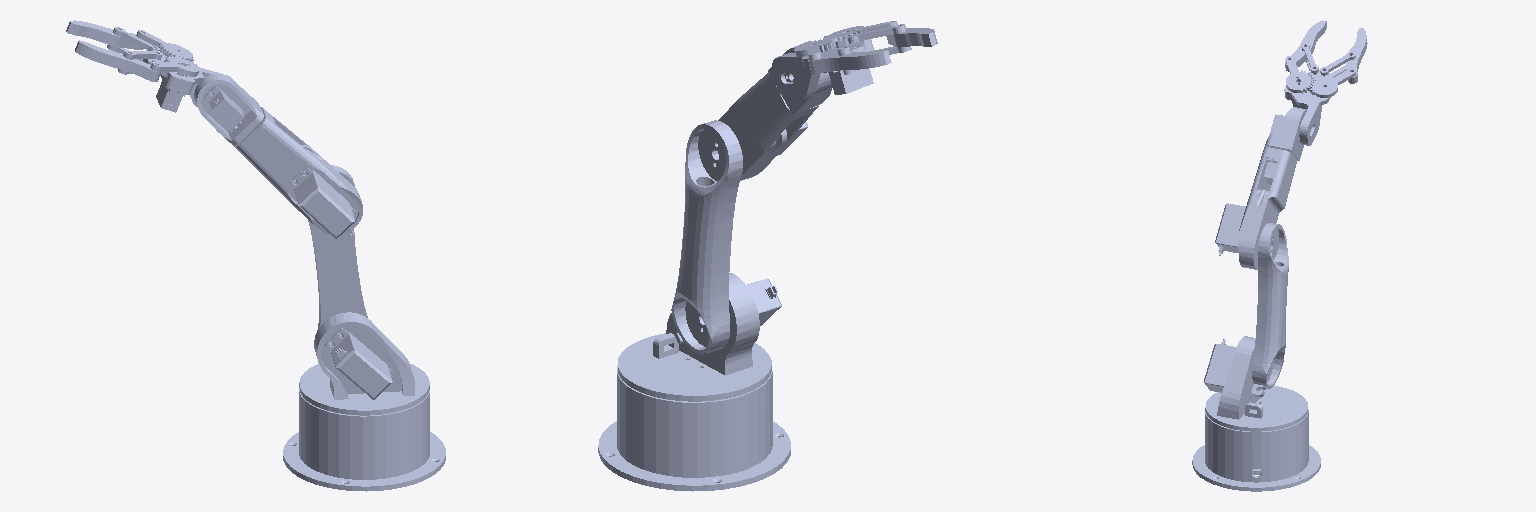
URDF robot description (robot_arm_final_urdf):
<?xml version="1.0" encoding="utf-8"?>
<!-- This URDF was automatically created by SolidWorks to URDF Exporter! Originally created by [author] ([email redacted]) 
     Commit Version: 1.6.0-1-g15f4949  Build Version: 1.6.7594.29634
     For more information, please see http://wiki.ros.org/sw_urdf_exporter -->
<robot
  name="robot_arm_final_urdf">
  <link
    name="base_link">
    <inertial>
      <origin
        xyz="0.017825 0.070857 0.098309"
        rpy="0 0 0" />
      <mass
        value="0.12991" />
      <inertia
        ixx="0.00013384"
        ixy="3.6348E-06"
        ixz="-6.8295E-11"
        iyy="0.000214"
        iyz="-5.1203E-12"
        izz="0.00014723" />
    </inertial>
    <visual>
      <origin
        xyz="0 0 0"
        rpy="0 0 0" />
      <geometry>
        <mesh
          filename="package://robot_arm_final_urdf/meshes/base_link.STL" />
      </geometry>
      <material
        name="">
        <color
          rgba="0.79216 0.81961 0.93333 1" />
      </material>
    </visual>
    <collision>
      <origin
        xyz="0 0 0"
        rpy="0 0 0" />
      <geometry>
        <mesh
          filename="package://robot_arm_final_urdf/meshes/base_link.STL" />
      </geometry>
    </collision>
  </link>
  <link
    name="link_1">
    <inertial>
      <origin
        xyz="-0.0035925 0.022695 0.013784"
        rpy="0 0 0" />
      <mass
        value="0.10191" />
      <inertia
        ixx="5.271E-05"
        ixy="8.2485E-06"
        ixz="1.113E-07"
        iyy="6.2385E-05"
        iyz="-4.7422E-06"
        izz="6.4166E-05" />
    </inertial>
    <visual>
      <origin
        xyz="0 0 0"
        rpy="0 0 0" />
      <geometry>
        <mesh
          filename="package://robot_arm_final_urdf/meshes/link_1.STL" />
      </geometry>
      <material
        name="">
        <color
          rgba="0.79216 0.81961 0.93333 1" />
      </material>
    </visual>
    <collision>
      <origin
        xyz="0 0 0"
        rpy="0 0 0" />
      <geometry>
        <mesh
          filename="package://robot_arm_final_urdf/meshes/link_1.STL" />
      </geometry>
    </collision>
  </link>
  <joint
    name="joint_0"
    type="revolute">
    <origin
      xyz="0.020284 -0.098309 0.10326"
      rpy="1.5708 0 -0.36497" />
    <parent
      link="base_link" />
    <child
      link="link_1" />
    <axis
      xyz="0 1 0" />
    <limit
      lower="-1.57"
      upper="1.57"
      effort="10"
      velocity="100" />
  </joint>
  <link
    name="link_2">
    <inertial>
      <origin
        xyz="-0.0078228 0.05804 -0.0061994"
        rpy="0 0 0" />
      <mass
        value="0.064396" />
      <inertia
        ixx="0.00010516"
        ixy="1.3457E-05"
        ixz="-1.6119E-07"
        iyy="1.0995E-05"
        iyz="1.539E-07"
        izz="0.00011184" />
    </inertial>
    <visual>
      <origin
        xyz="0 0 0"
        rpy="0 0 0" />
      <geometry>
        <mesh
          filename="package://robot_arm_final_urdf/meshes/link_2.STL" />
      </geometry>
      <material
        name="">
        <color
          rgba="0.79216 0.81961 0.93333 1" />
      </material>
    </visual>
    <collision>
      <origin
        xyz="0 0 0"
        rpy="0 0 0" />
      <geometry>
        <mesh
          filename="package://robot_arm_final_urdf/meshes/link_2.STL" />
      </geometry>
    </collision>
  </link>
  <joint
    name="joint_1"
    type="revolute">
    <origin
      xyz="-0.013736 0.040453 -0.00039997"
      rpy="0.00081103 1.1297E-05 -0.027856" />
    <parent
      link="link_1" />
    <child
      link="link_2" />
    <axis
      xyz="0.029106 0 -0.99958" />
    <limit
      lower="-1.57"
      upper="1.57"
      effort="10"
      velocity="100" />
  </joint>
  <link
    name="Link_3">
    <inertial>
      <origin
        xyz="-0.028119 0.014251 0.017704"
        rpy="0 0 0" />
      <mass
        value="0.091273" />
      <inertia
        ixx="2.5721E-05"
        ixy="1.9932E-05"
        ixz="-6.3387E-07"
        iyy="5.4415E-05"
        iyz="3.2221E-07"
        izz="6.481E-05" />
    </inertial>
    <visual>
      <origin
        xyz="0 0 0"
        rpy="0 0 0" />
      <geometry>
        <mesh
          filename="package://robot_arm_final_urdf/meshes/Link_3.STL" />
      </geometry>
      <material
        name="">
        <color
          rgba="0.79216 0.81961 0.93333 1" />
      </material>
    </visual>
    <collision>
      <origin
        xyz="0 0 0"
        rpy="0 0 0" />
      <geometry>
        <mesh
          filename="package://robot_arm_final_urdf/meshes/Link_3.STL" />
      </geometry>
    </collision>
  </link>
  <joint
    name="joint_2"
    type="revolute">
    <origin
      xyz="-0.016642 0.11884 -0.00048458"
      rpy="0.0089016 0.001394 -0.31067" />
    <parent
      link="link_2" />
    <child
      link="Link_3" />
    <axis
      xyz="0.029106 0 -0.99958" />
    <limit
      lower="-1.57"
      upper="1.57"
      effort="10"
      velocity="100" />
  </joint>
  <link
    name="link_4">
    <inertial>
      <origin
        xyz="-0.0002487 0.0066622 -0.0010052"
        rpy="0 0 0" />
      <mass
        value="0.023628" />
      <inertia
        ixx="3.6117E-06"
        ixy="7.7858E-07"
        ixz="-6.9123E-07"
        iyy="4.1686E-06"
        iyz="2.7202E-08"
        izz="5.2425E-06" />
    </inertial>
    <visual>
      <origin
        xyz="0 0 0"
        rpy="0 0 0" />
      <geometry>
        <mesh
          filename="package://robot_arm_final_urdf/meshes/link_4.STL" />
      </geometry>
      <material
        name="">
        <color
          rgba="0.79216 0.81961 0.93333 1" />
      </material>
    </visual>
    <collision>
      <origin
        xyz="0 0 0"
        rpy="0 0 0" />
      <geometry>
        <mesh
          filename="package://robot_arm_final_urdf/meshes/link_4.STL" />
      </geometry>
    </collision>
  </link>
  <joint
    name="joint_3"
    type="revolute">
    <origin
      xyz="-0.098611 0.044598 0.0096339"
      rpy="-0.39056 0.18976 -0.04902" />
    <parent
      link="Link_3" />
    <child
      link="link_4" />
    <axis
      xyz="0.88993 -0.45535 0.025914" />
    <limit
      lower="-1.57"
      upper="1.57"
      effort="10"
      velocity="100" />
  </joint>
  <link
    name="end_effector">
    <inertial>
      <origin
        xyz="-0.046679 0.0050032 -0.019393"
        rpy="0 0 0" />
      <mass
        value="0.042047" />
      <inertia
        ixx="3.5904E-06"
        ixy="-5.1175E-07"
        ixz="-3.8431E-07"
        iyy="1.3369E-05"
        iyz="2.5264E-07"
        izz="1.207E-05" />
    </inertial>
    <visual>
      <origin
        xyz="0 0 0"
        rpy="0 0 0" />
      <geometry>
        <mesh
          filename="package://robot_arm_final_urdf/meshes/end_effector.STL" />
      </geometry>
      <material
        name="">
        <color
          rgba="0.79216 0.81961 0.93333 1" />
      </material>
    </visual>
    <collision>
      <origin
        xyz="0 0 0"
        rpy="0 0 0" />
      <geometry>
        <mesh
          filename="package://robot_arm_final_urdf/meshes/end_effector.STL" />
      </geometry>
    </collision>
  </link>
  <joint
    name="end_effector_joint"
    type="revolute">
    <origin
      xyz="-0.0084243 0.0095061 0.0015929"
      rpy="0.033153 0.069984 -0.18737" />
    <parent
      link="link_4" />
    <child
      link="end_effector" />
    <axis
      xyz="0.19433 0.32718 -0.92476" />
    <limit
      lower="-1.57"
      upper="1.57"
      effort="10"
      velocity="100" />
  </joint>
</robot>

--- Facts derived from the render (not from the file) ---
3 views of the same robot in one strip: view 1: azimuth 30°, elevation 25°; view 2: azimuth 150°, elevation 25°; view 3: azimuth 270°, elevation 25° (orthographic).
Robot: robot_arm_final_urdf — 6 links, 5 joints (5 revolute); root link base_link; default pose: all joints at 0.
Links seen in each view (by area): view 1: base_link, link_1, Link_3, end_effector, link_2, link_4; view 2: base_link, link_2, link_1, end_effector, Link_3, link_4; view 3: base_link, link_1, link_2, Link_3, end_effector, link_4.
Link boxes in pixels (<box>): base_link: <box>283,388,445,491</box>; link_1: <box>299,312,429,415</box>; Link_3: <box>234,107,362,238</box>; end_effector: <box>66,20,230,112</box>; link_2: <box>308,165,367,330</box>; link_4: <box>194,73,263,145</box>; base_link: <box>598,366,790,491</box>; link_2: <box>671,120,742,354</box>; link_1: <box>618,273,781,401</box>; end_effector: <box>772,21,937,99</box>; Link_3: <box>718,72,818,180</box>; link_4: <box>768,41,832,114</box>; base_link: <box>1192,409,1320,491</box>; link_1: <box>1204,336,1307,431</box>; link_2: <box>1251,223,1288,397</box>; Link_3: <box>1215,147,1296,269</box>; end_effector: <box>1284,20,1367,145</box>; link_4: <box>1265,107,1306,160</box>.
Size in the robot's own frame: 0.2724 by 0.1649 by 0.364 metres.
Meshes: 6 distinct files referenced, 6 mesh visuals loaded (6 binary STL).